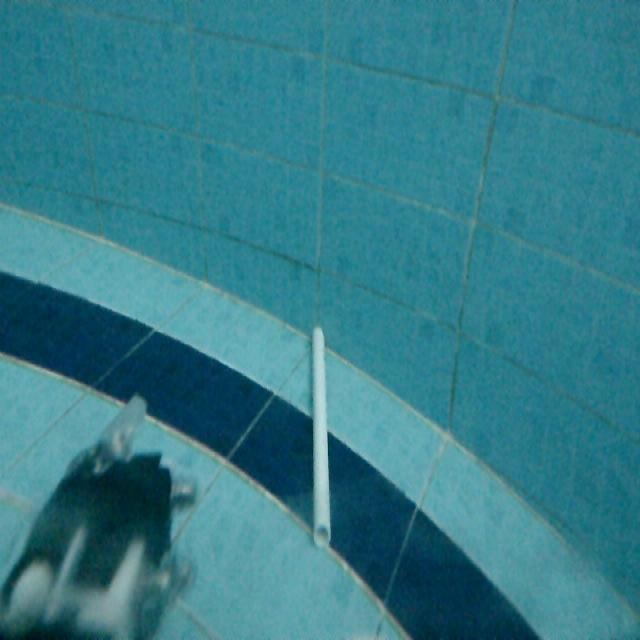Cube: (307, 320, 334, 549)
